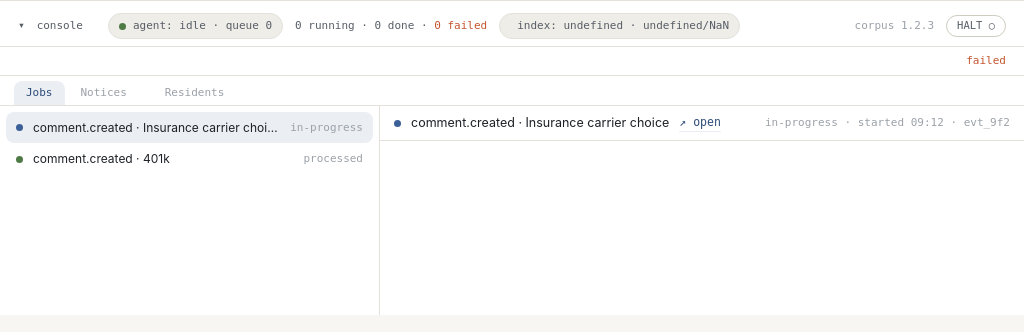
the master-detail body › falls back to the newest job when the selected one disappears
Click the button "comment.created · 401k processed" at (101, 159), box [6, 143, 373, 175]
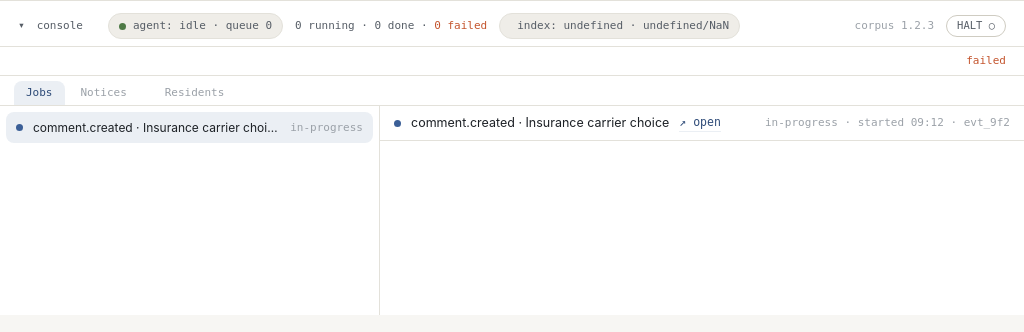
Expected: the 1st text with class "job-title" shows "Insurance carrier choice", [33, 120, 281, 135]
Result: the number of buttons with class "job" is 1 at [6, 112, 373, 143]
